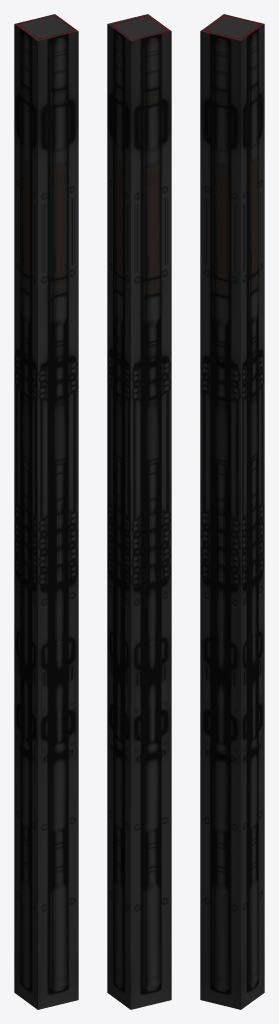
File: Panel_A_Beam_1_L3.FBX
3 renders of one model, left to right at view 1: azimuth 30°, elevation 25°; view 2: azimuth 210°, elevation 25°; view 3: azimuth 330°, elevation 25°, orthographic.
Visible parts, largest first — view 1: Panel_A_Beam_1_L3; view 2: Panel_A_Beam_1_L3; view 3: Panel_A_Beam_1_L3.
Part boxes in pixels (<box>): Panel_A_Beam_1_L3: <box>14,14,78,1009</box>; Panel_A_Beam_1_L3: <box>107,14,171,1009</box>; Panel_A_Beam_1_L3: <box>200,14,264,1009</box>.
Bounding box in the file's own units: 18.13 × 400 × 18.18.
